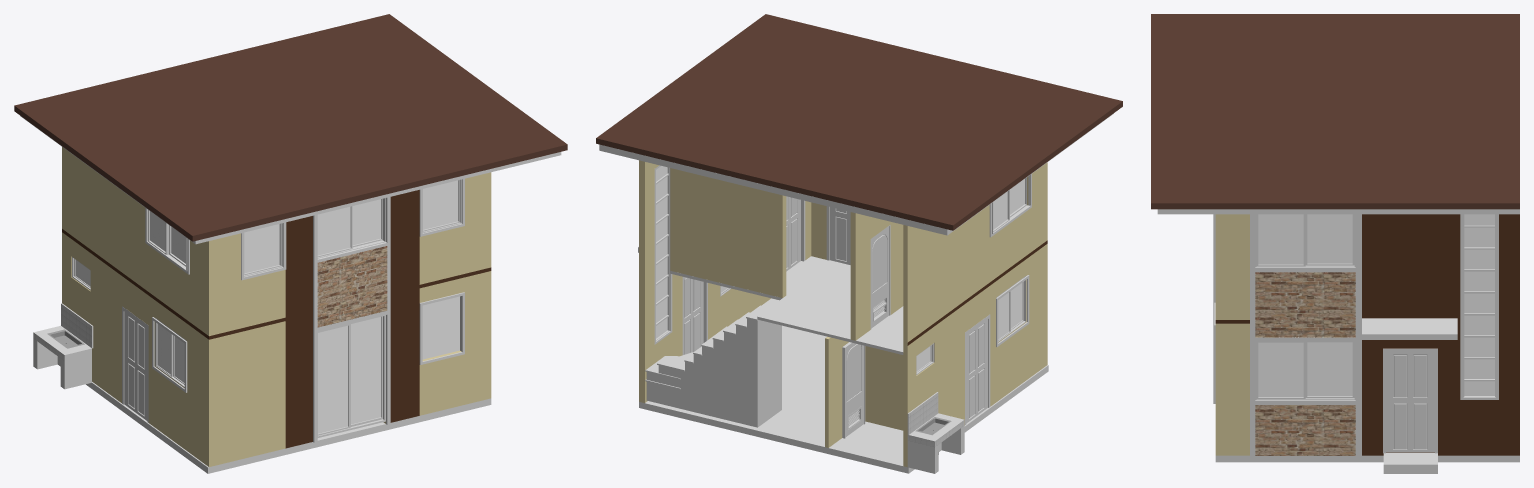
File: linnea_interior.glb
3 views of the same model, side by side, from view 1: azimuth 30°, elevation 25°; view 2: azimuth 150°, elevation 25°; view 3: azimuth 270°, elevation 25° (orthographic). The views are drawn at different scales.
Visible parts, largest first — view 1: Plane.023; view 2: Plane.023; view 3: Plane.023.
Boxes of the visible parts, x1,y1,x2,y2 form: Plane.023: (14, 14, 567, 473); Plane.023: (596, 14, 1122, 473); Plane.023: (1151, 14, 1519, 473).
Bounding box in the file's own units: 7.68 × 5.32 × 6.32.
28 materials, 2 textured.
